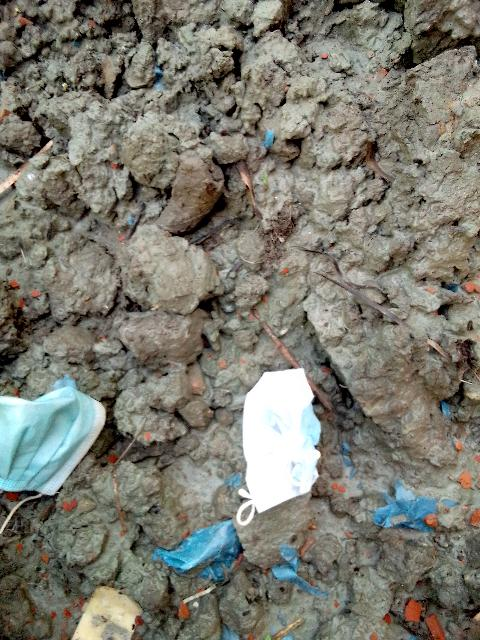mask: (0, 356, 108, 542), (241, 364, 322, 524)
